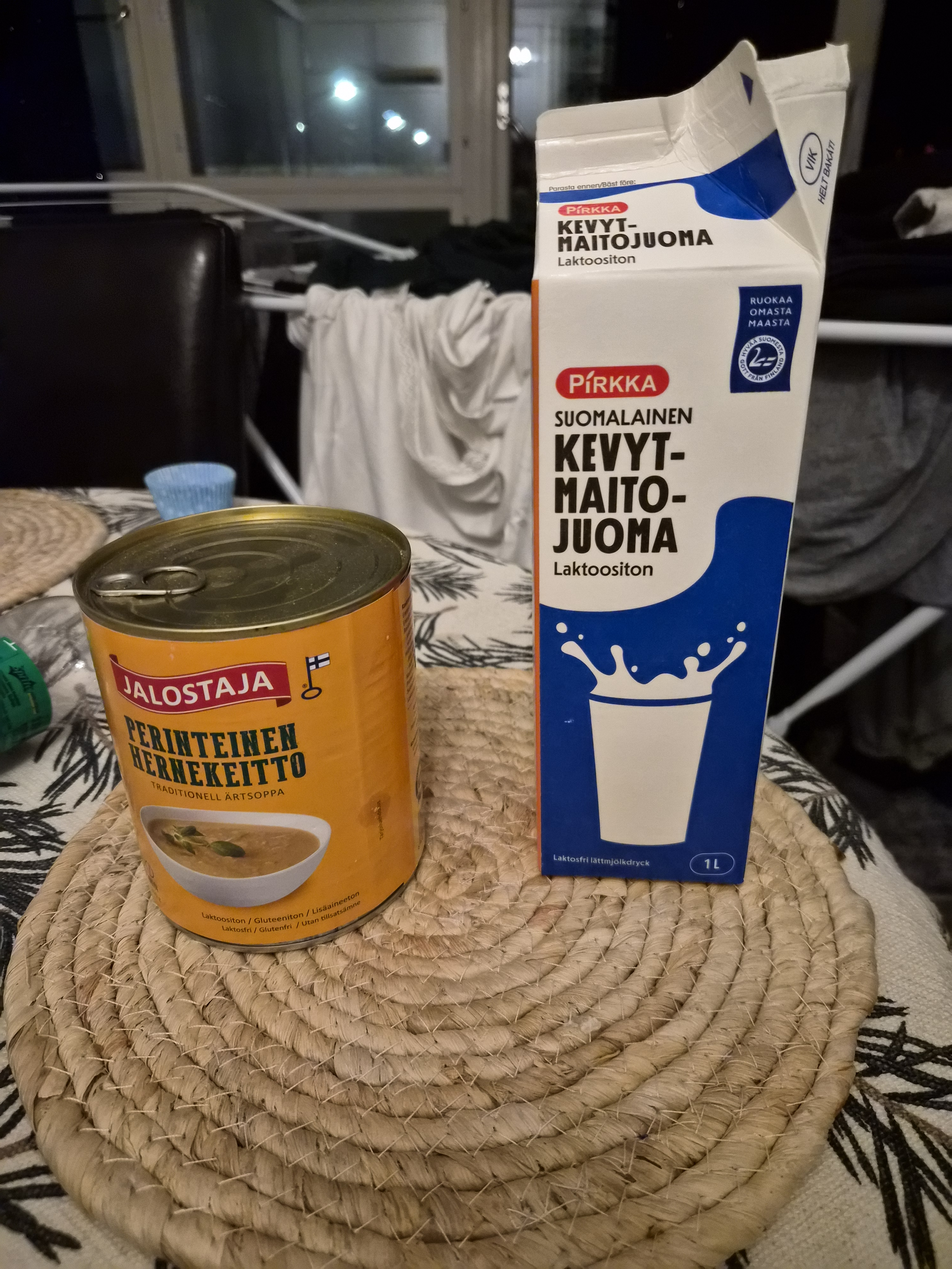Dryckeskartong: (535, 42, 847, 884)
Konservburk: (62, 511, 430, 955)
